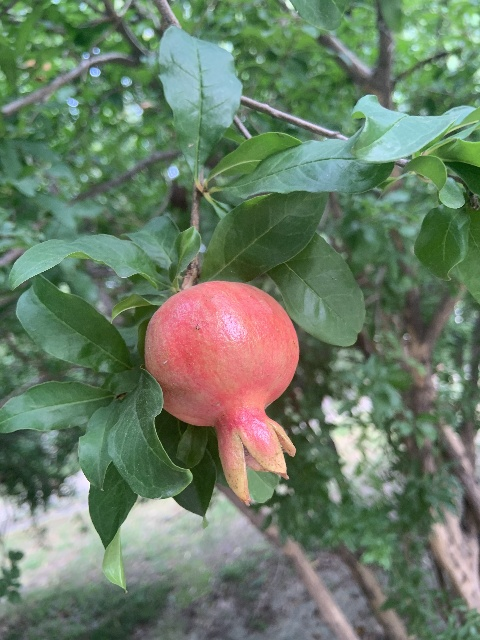ripe: (143, 280, 298, 504)
